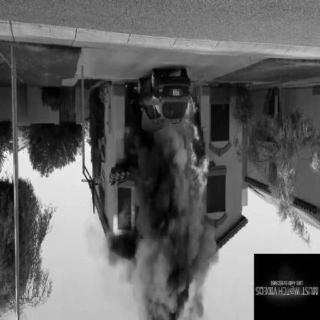Fire: (169, 94, 212, 218), (94, 134, 114, 162)
Smoke: (133, 173, 199, 317)
